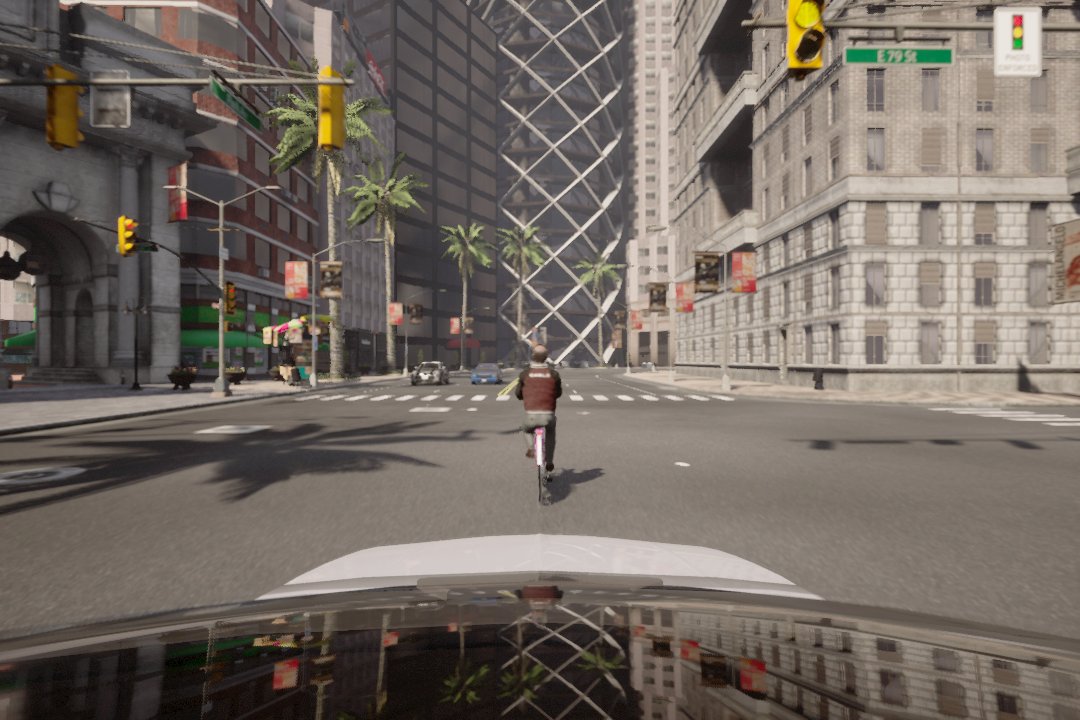TrafficLight: (787, 1, 822, 64), (117, 217, 137, 260), (227, 284, 236, 314)
walkside: (283, 390, 736, 406)
